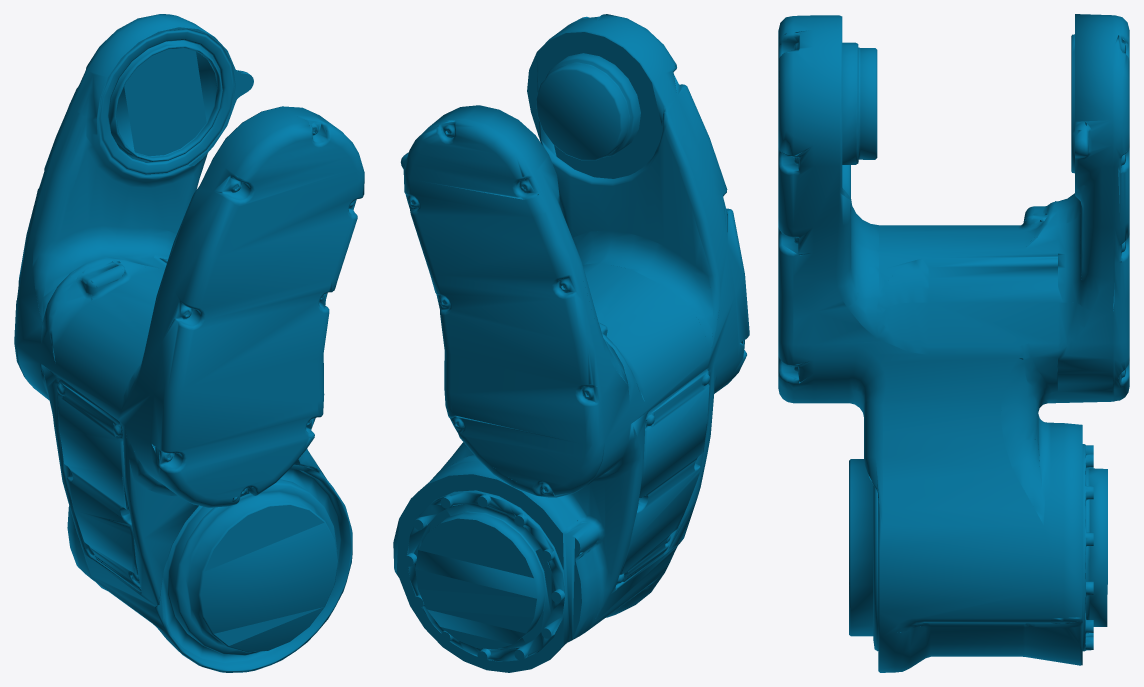
3 renders of one model, left to right at view 1: azimuth 30°, elevation 25°; view 2: azimuth 150°, elevation 25°; view 3: azimuth 270°, elevation 25°, orthographic. The views are drawn at different scales.
Parts seen in each view (by area): view 1: gp4_link_2_l; view 2: gp4_link_2_l; view 3: gp4_link_2_l.
Part boxes in pixels (x1,y1,x2,y2): gp4_link_2_l: (14,14,364,672); gp4_link_2_l: (393,14,749,672); gp4_link_2_l: (778,14,1129,672).
Size of the model in its own units: 0.1594 by 0.1865 by 0.3738.
